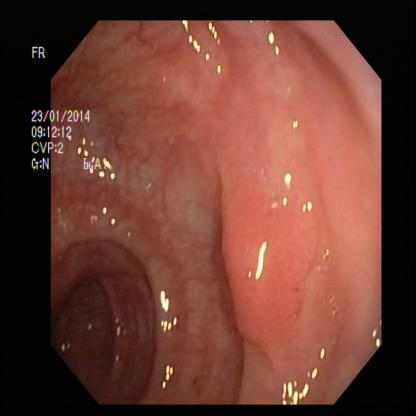Labels: (24, 43, 112, 183)
Polyps: (201, 120, 331, 350)
